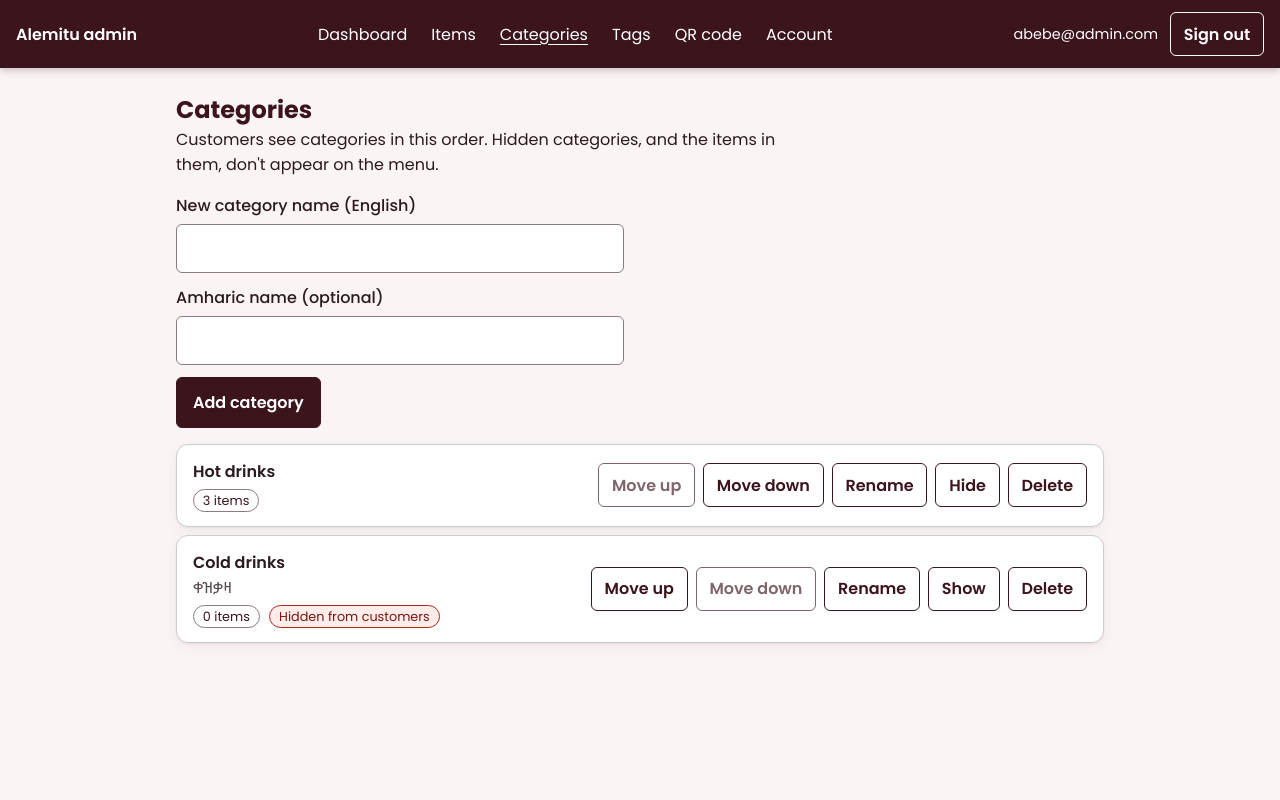
Test: admin categories page › asks before deleting an empty category, and Cancel changes nothing
Click the button with aria-label "Delete: Cold drinks": [1047, 589] box [1008,567,1087,611]
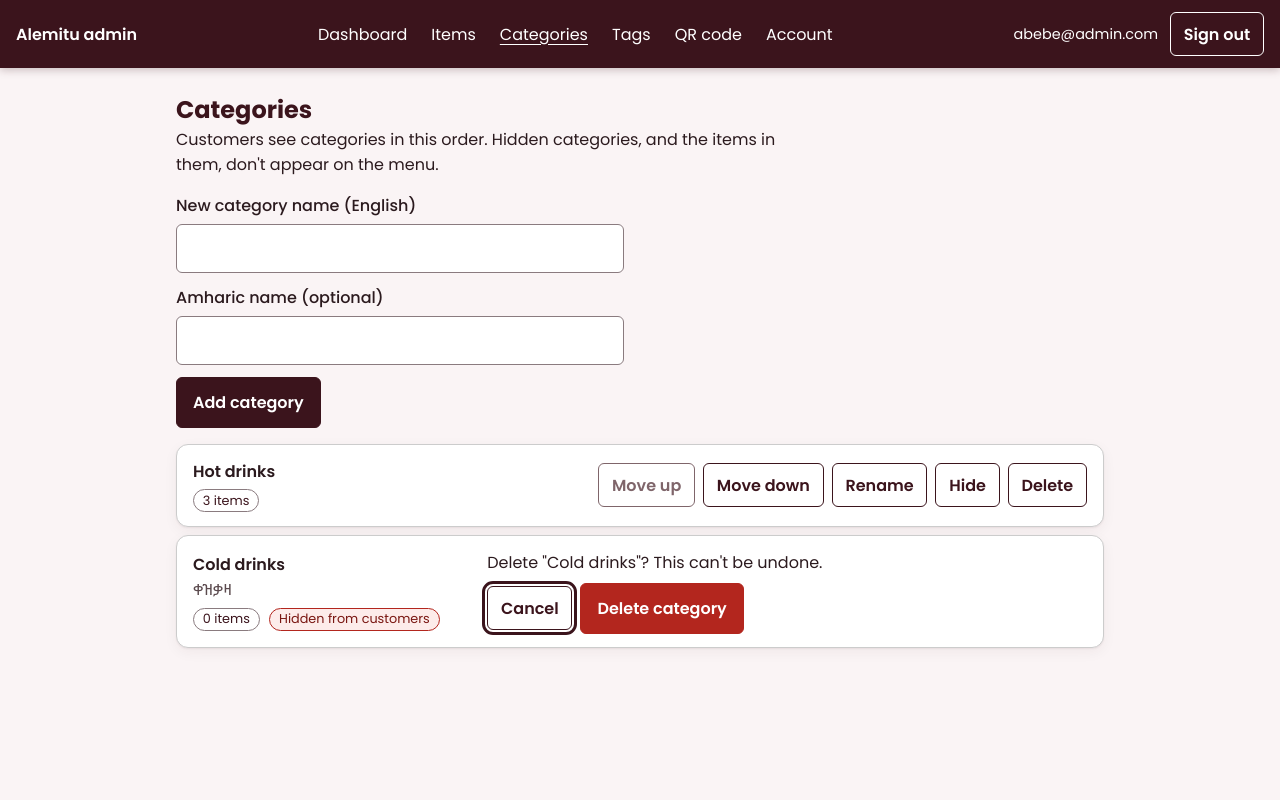
Click the button "Cancel": [530, 608] box [487,586,572,630]
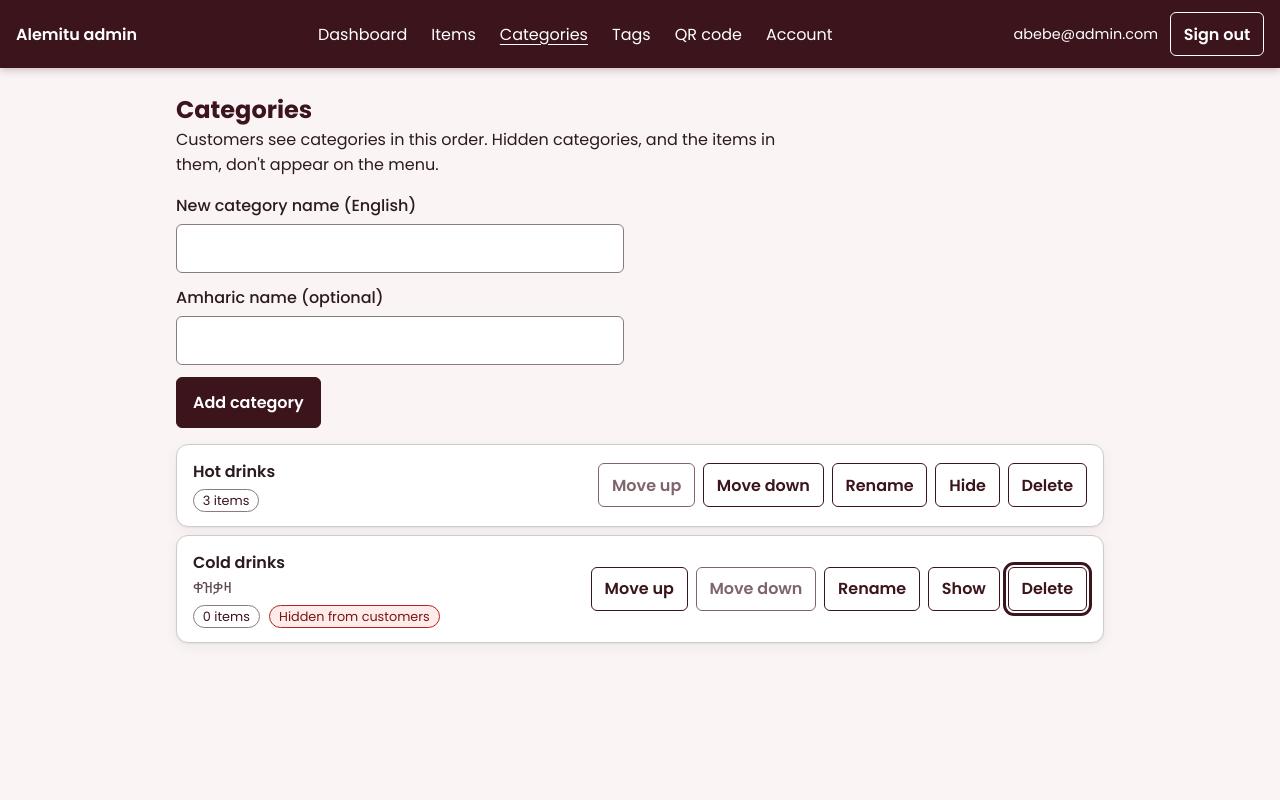
Click the button with aria-label "Delete: Cold drinks": [1047, 589] box [1008,567,1087,611]
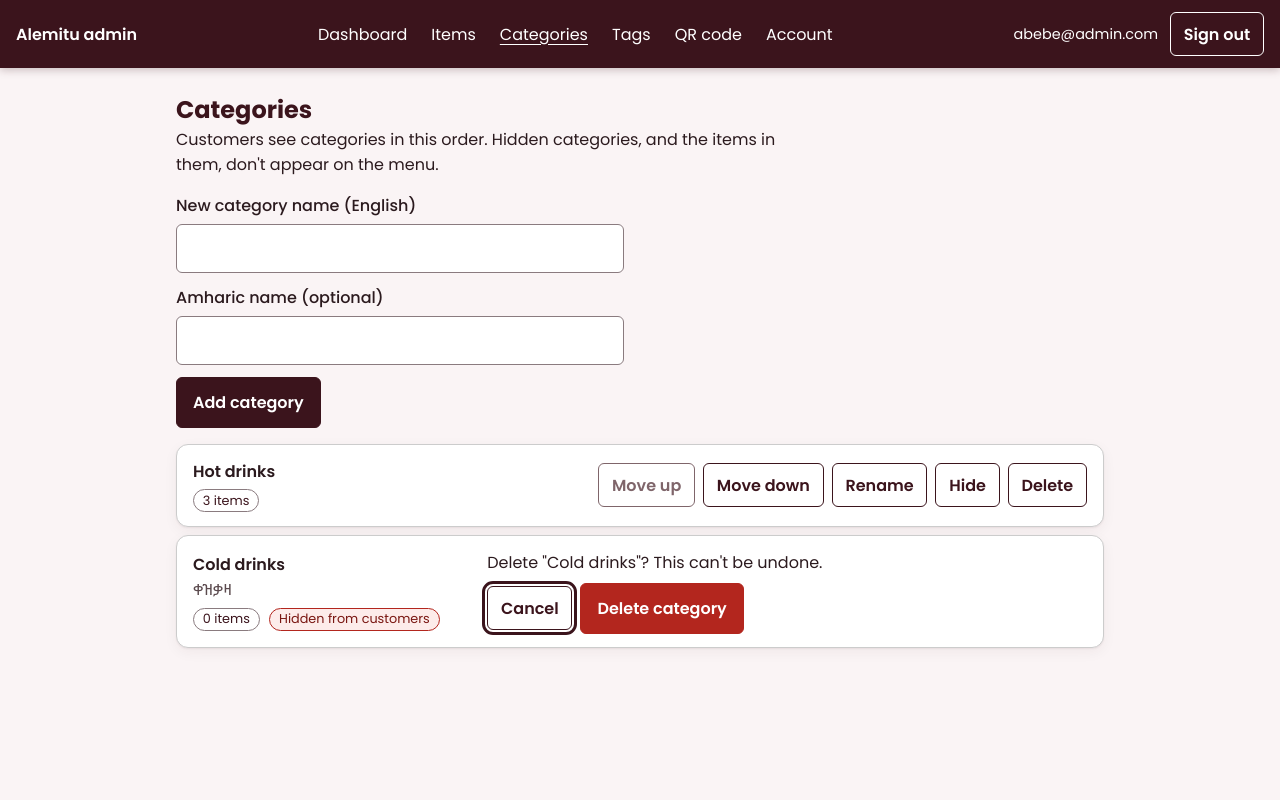
Click the button "Delete category": [662, 608] box [580,582,744,634]
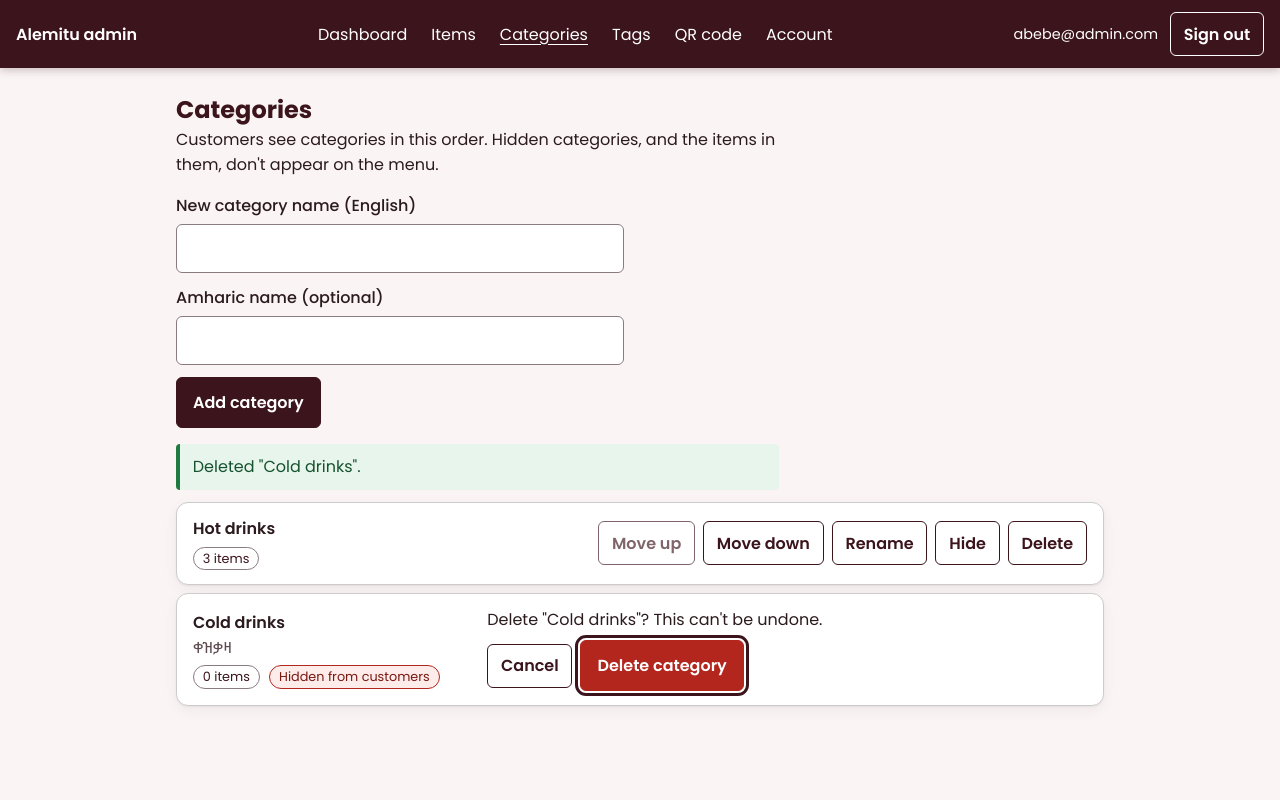
Check: the text "Deleted \"Cold drinks\"." is shown, box [176,444,779,490]
